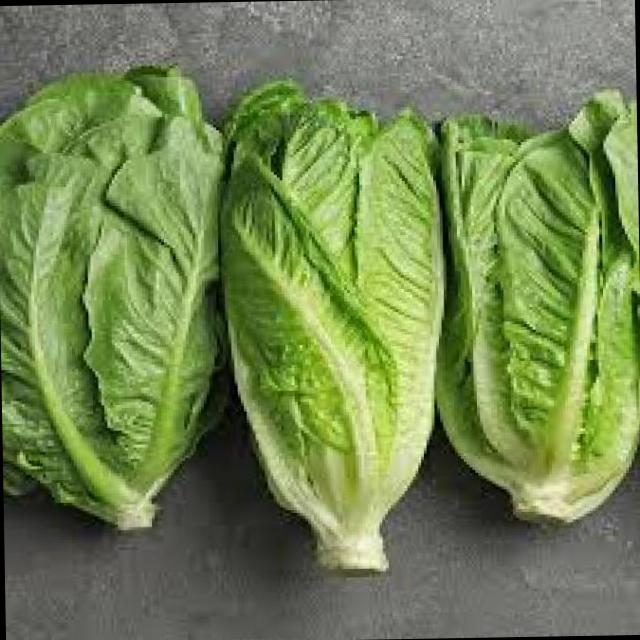Lettuce-Ready-to-Harvest: (221, 81, 443, 570), (0, 66, 222, 529), (438, 99, 640, 516)
